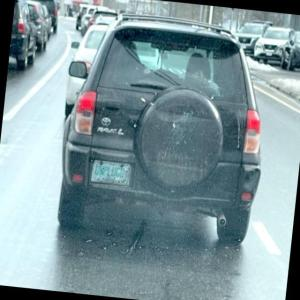Plate: (88, 160, 135, 188)
